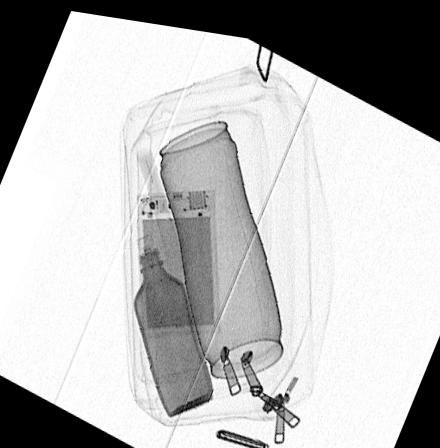Powerbank: (137, 184, 218, 332)
